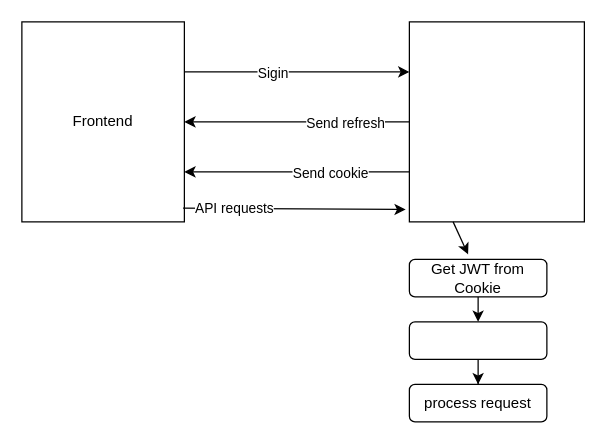
The diagram is 606 pixels wide and 444 high, and some of its shapes have lost their labels. The shapes that lost their labels are listed below. From the top down, each one's centre as x and y in pixels, then its label:
the point at 496,121: FindFirst Server
the point at 477,340: verify the user
